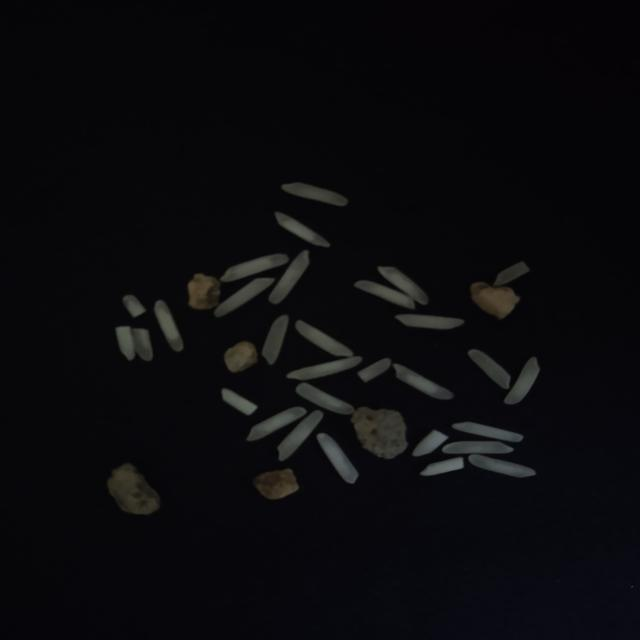Broken: (294, 382, 354, 414), (450, 422, 524, 442), (220, 387, 258, 415), (411, 429, 449, 456), (492, 260, 530, 286), (357, 357, 392, 382), (418, 457, 464, 476), (131, 328, 153, 362), (115, 326, 135, 360), (122, 294, 146, 318)
Full: (213, 278, 276, 320), (276, 410, 324, 462), (266, 249, 308, 305), (294, 320, 354, 358), (316, 432, 359, 484), (392, 364, 454, 400), (245, 407, 307, 442), (274, 212, 332, 248), (376, 266, 428, 305), (220, 254, 290, 282), (352, 279, 416, 309), (284, 356, 362, 380), (503, 356, 541, 404), (467, 348, 511, 388), (468, 454, 536, 478), (281, 182, 349, 206), (154, 300, 184, 352), (260, 314, 288, 366), (394, 314, 465, 329), (441, 441, 515, 454)
